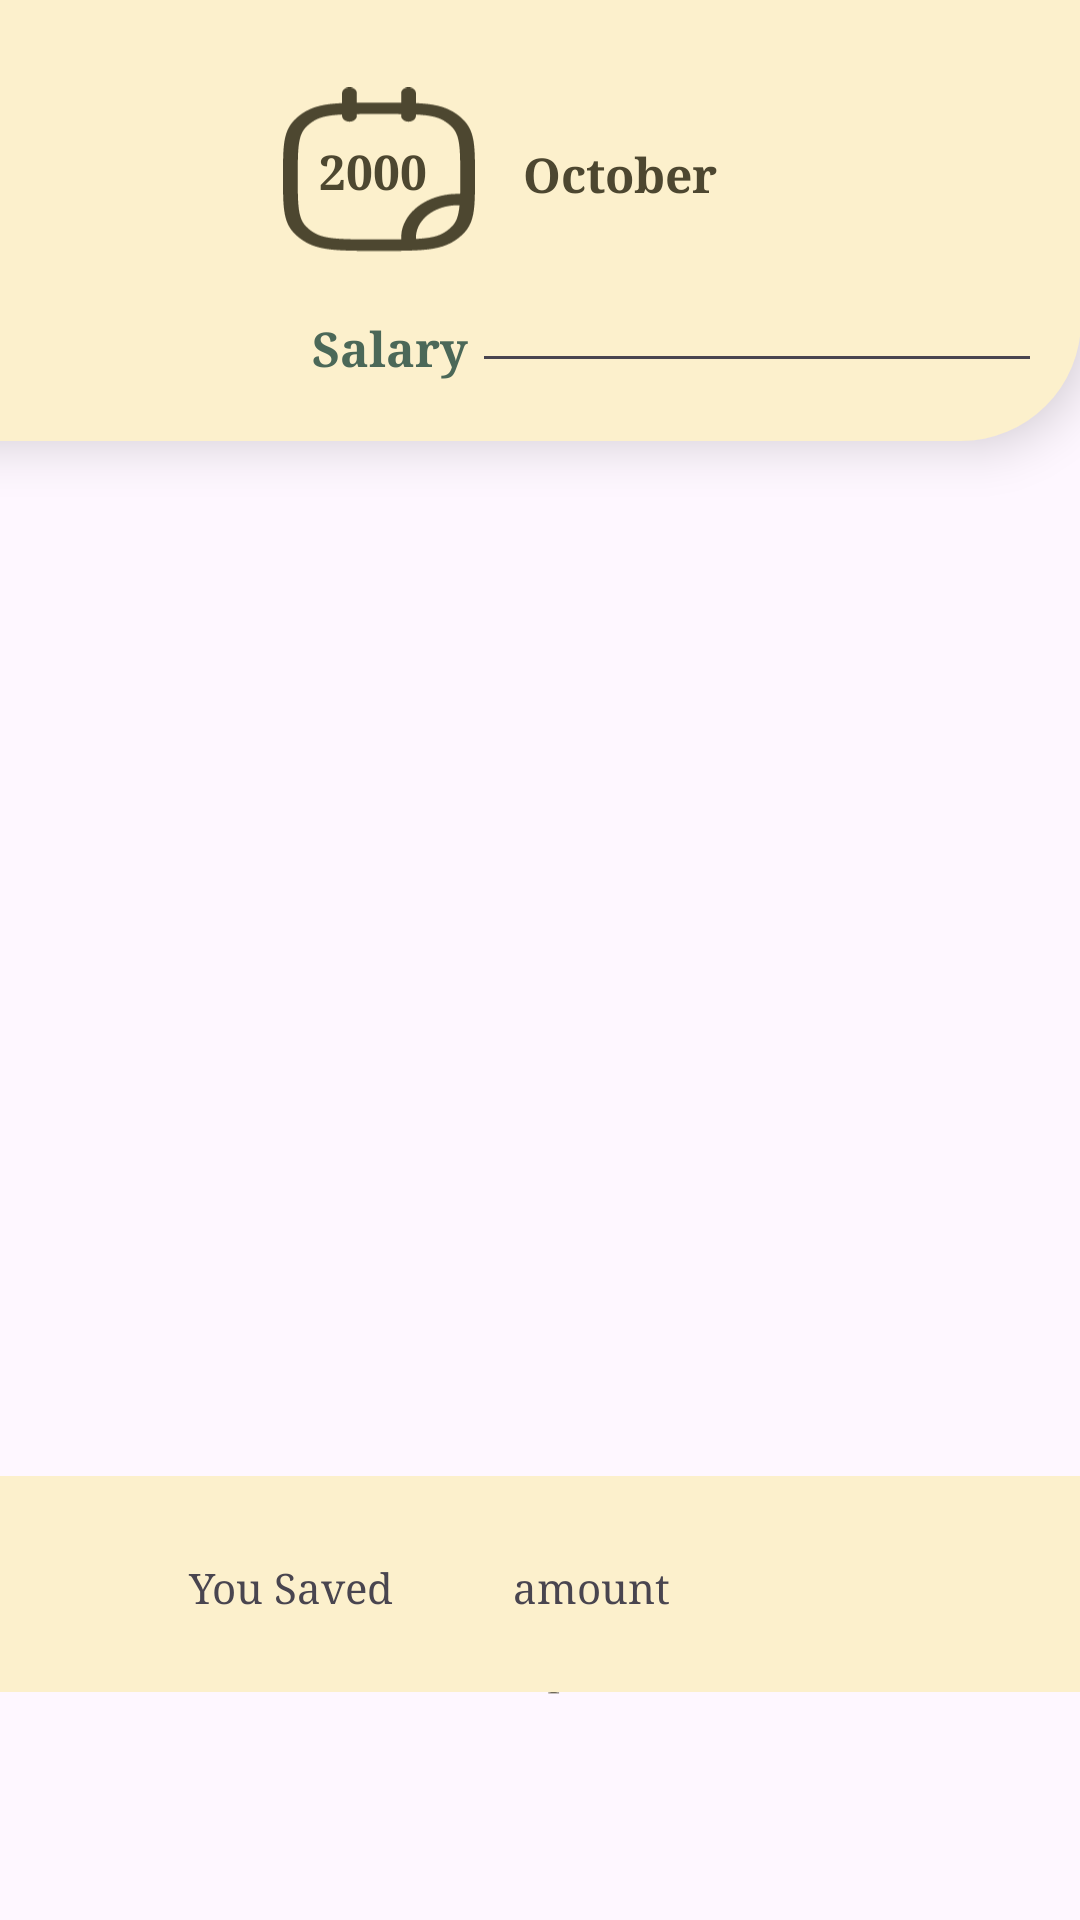

Icons on this 1080x1920 Android screen, each with the point to tap as [x,y]:
calender: [379,169]
